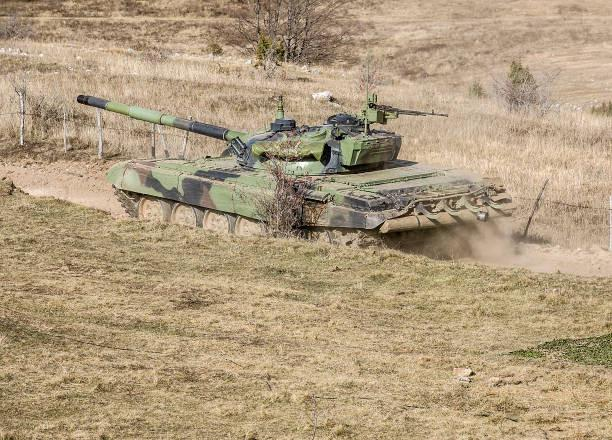tank: (75, 93, 518, 250)
